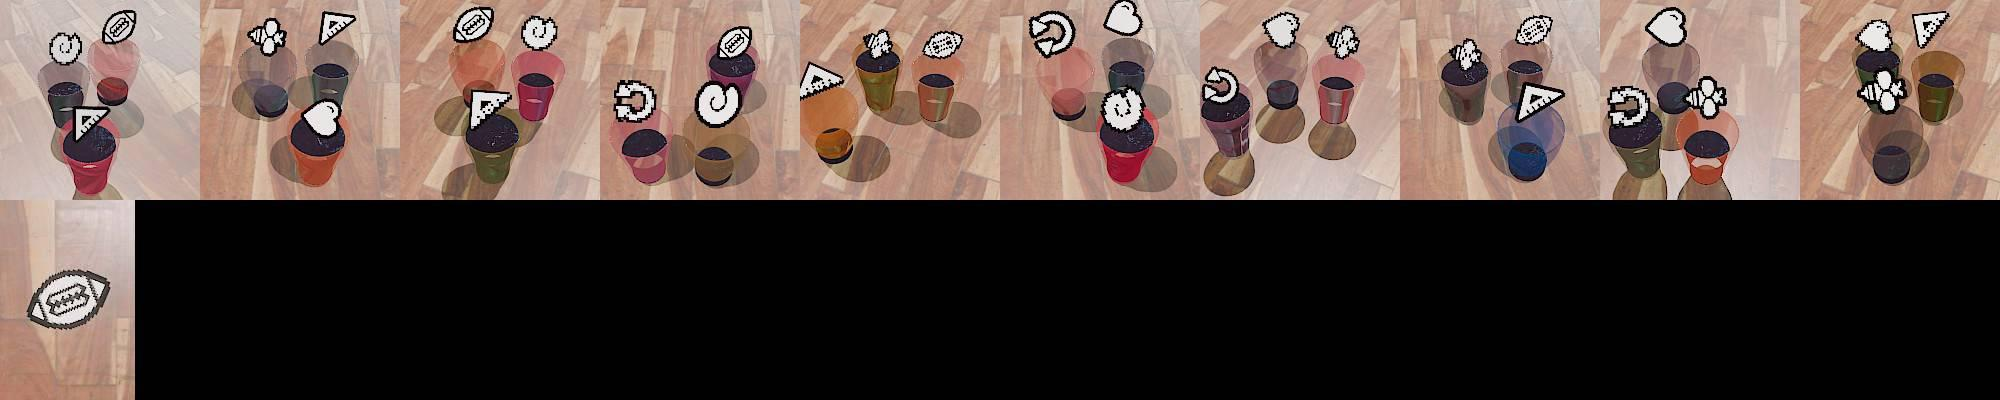icon: (23, 268, 112, 330), (1514, 79, 1566, 122), (1856, 71, 1909, 113), (1606, 83, 1654, 129), (694, 82, 742, 127), (1099, 87, 1147, 132), (1028, 10, 1074, 57), (611, 78, 657, 124), (1681, 74, 1728, 118), (467, 88, 513, 132), (300, 97, 344, 141), (798, 61, 846, 101), (1644, 6, 1687, 48), (70, 104, 116, 143), (452, 5, 495, 45), (246, 17, 288, 56), (1261, 10, 1301, 50), (714, 24, 754, 62), (1911, 10, 1949, 50), (1102, 0, 1144, 36), (520, 14, 559, 52), (1514, 13, 1554, 48), (318, 10, 357, 46), (101, 9, 138, 46), (1856, 19, 1895, 54), (1203, 66, 1239, 103), (921, 29, 963, 60), (1325, 24, 1361, 60), (50, 31, 83, 66), (1450, 37, 1483, 71), (864, 29, 897, 61)
